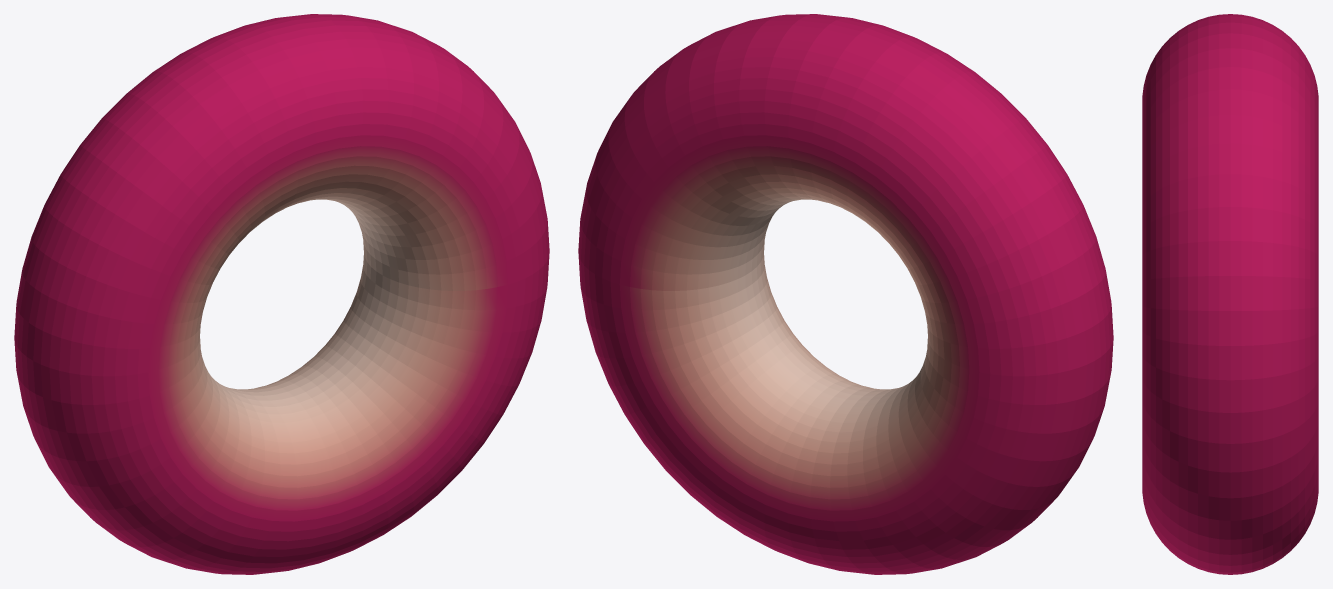
The picture shows the model from 3 angles, left to right: view 1: azimuth 30°, elevation 25°; view 2: azimuth 150°, elevation 25°; view 3: azimuth 270°, elevation 25°; orthographic projection. The views are drawn at different scales.
Parts seen in each view (by area): view 1: world; view 2: world; view 3: world.
Part boxes in pixels (x1,y1,x2,y2): world: (14, 14, 549, 574); world: (578, 14, 1113, 574); world: (1142, 14, 1318, 574).
Bounding box in the file's own units: 29.2 × 29.14 × 9.18.
